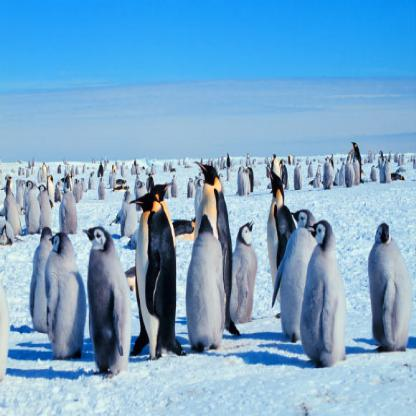Penguin: (128, 185, 189, 369), (79, 216, 139, 383), (190, 153, 245, 330), (270, 202, 336, 346), (184, 199, 244, 346), (300, 215, 356, 365), (41, 218, 97, 368), (260, 159, 311, 323), (365, 219, 416, 360), (27, 214, 72, 327), (227, 202, 267, 326), (33, 176, 63, 238), (20, 171, 46, 235), (2, 178, 25, 244), (343, 135, 368, 188), (57, 185, 81, 227)
